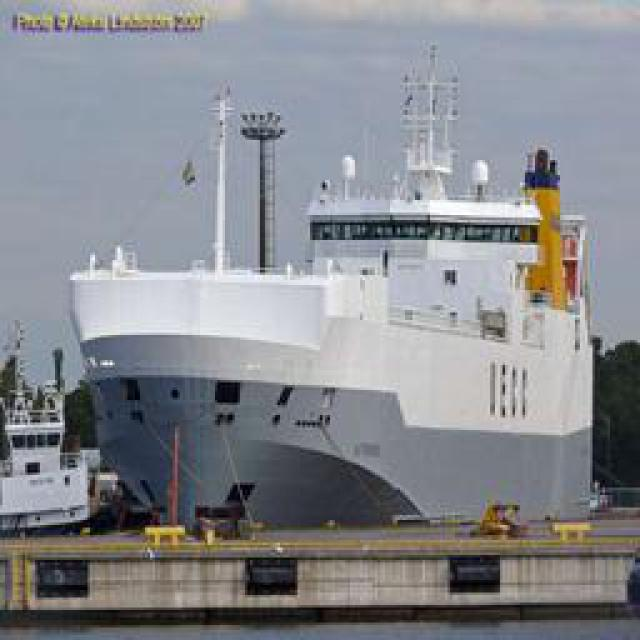Ship: (54, 77, 599, 555)
